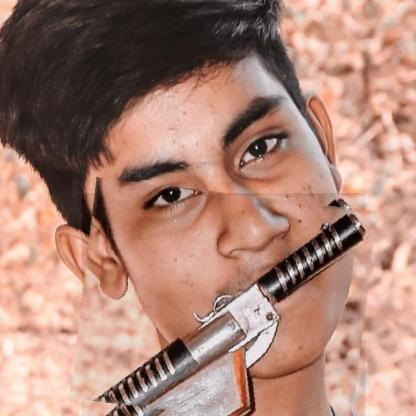handgun: (75, 184, 371, 416)
